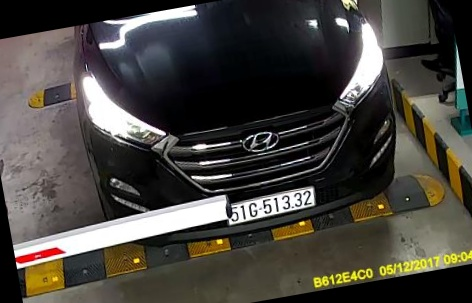plate: (221, 186, 322, 231)
